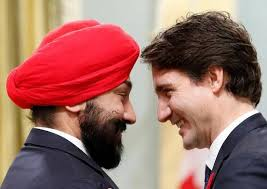helmet: (3, 10, 144, 171)
